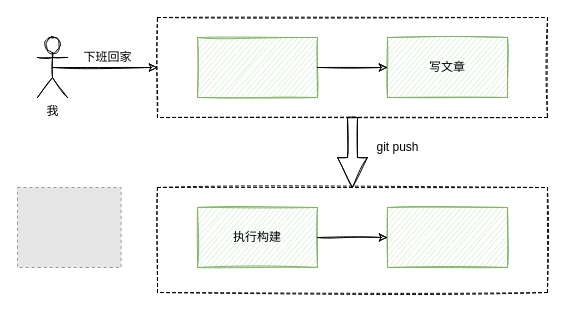
The diagram is 565 pixels wide and 310 high, and some of its shapes have lost their labels. Grey dashed boxes stand in for pictures. The centre of each missing label's shape, as x and y in pixels:
"打开电脑" belongs at [257,67].
"部署 Github Page" belongs at [447,237].
